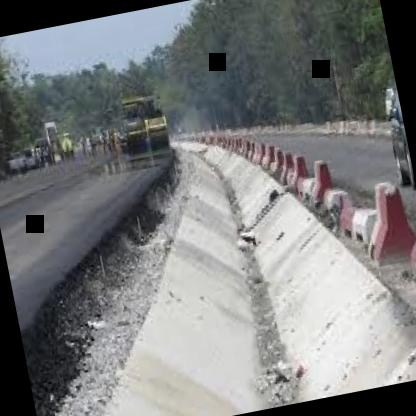car: (369, 79, 416, 201)
